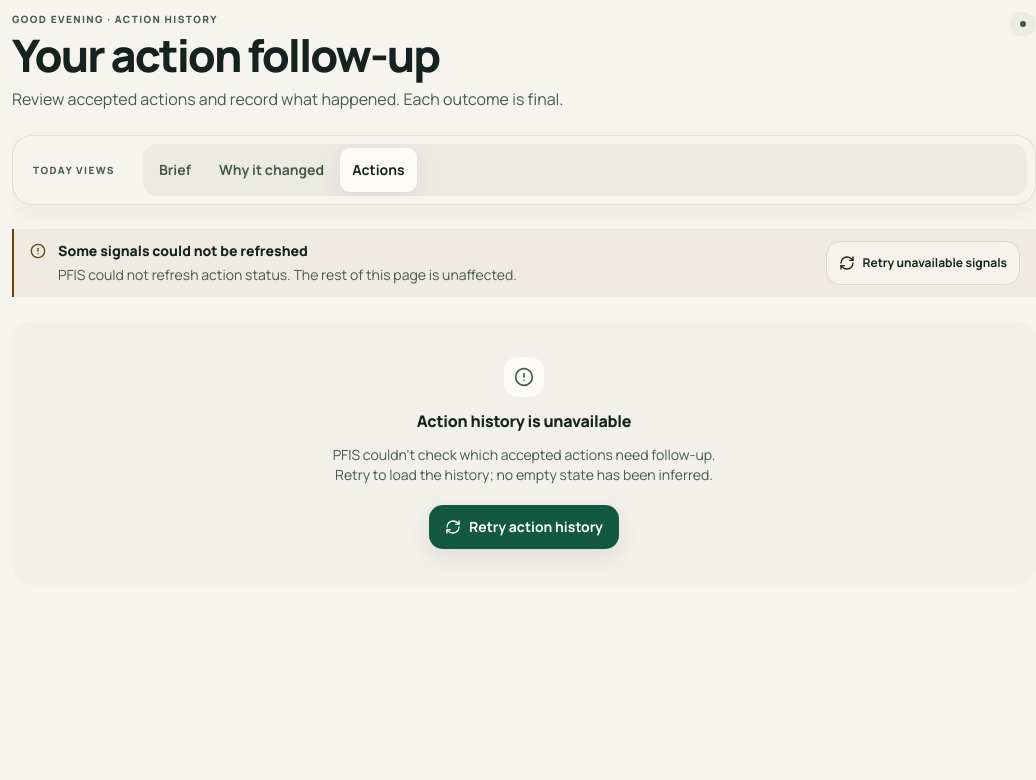
it: Today Financial Horizon › shows a retry state instead of an empty action history when decisions fail to load
expect the text "Action history is unavailable" is shown: met, box [417,409,631,433]
expect the text "No action outcomes to review" is not shown: met
Click the button "Retry action history" at {"x": 524, "y": 527}, box [429,505,619,549]
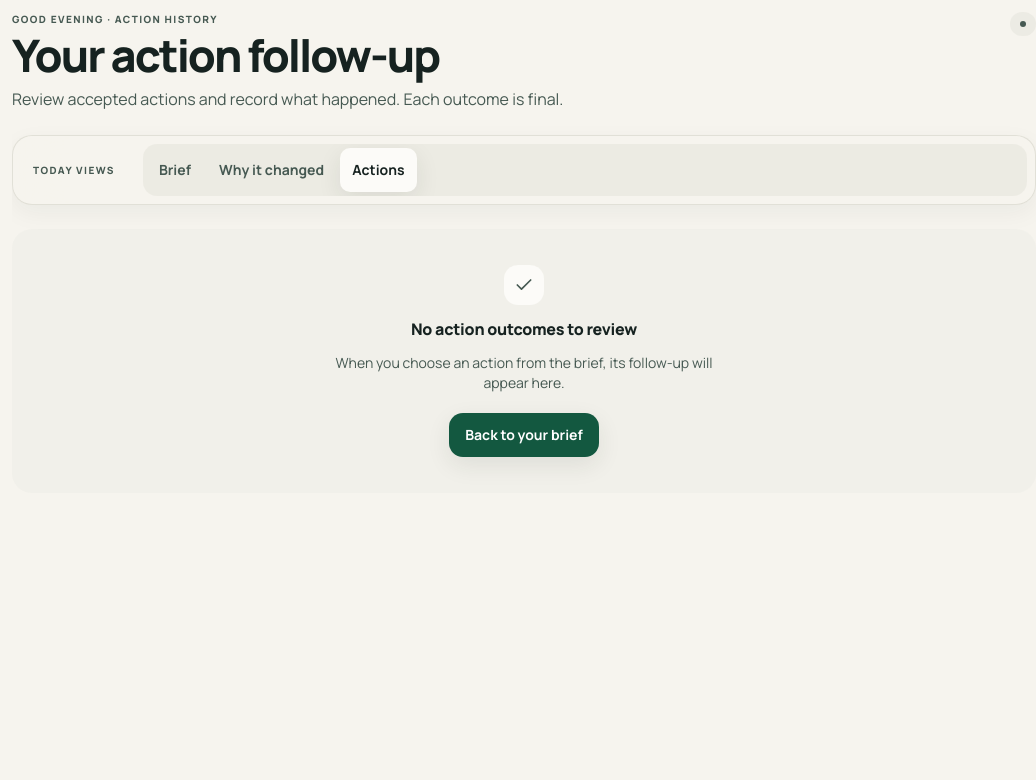
expect the text "No action outcomes to review" is shown: met, box [411,317,637,341]
